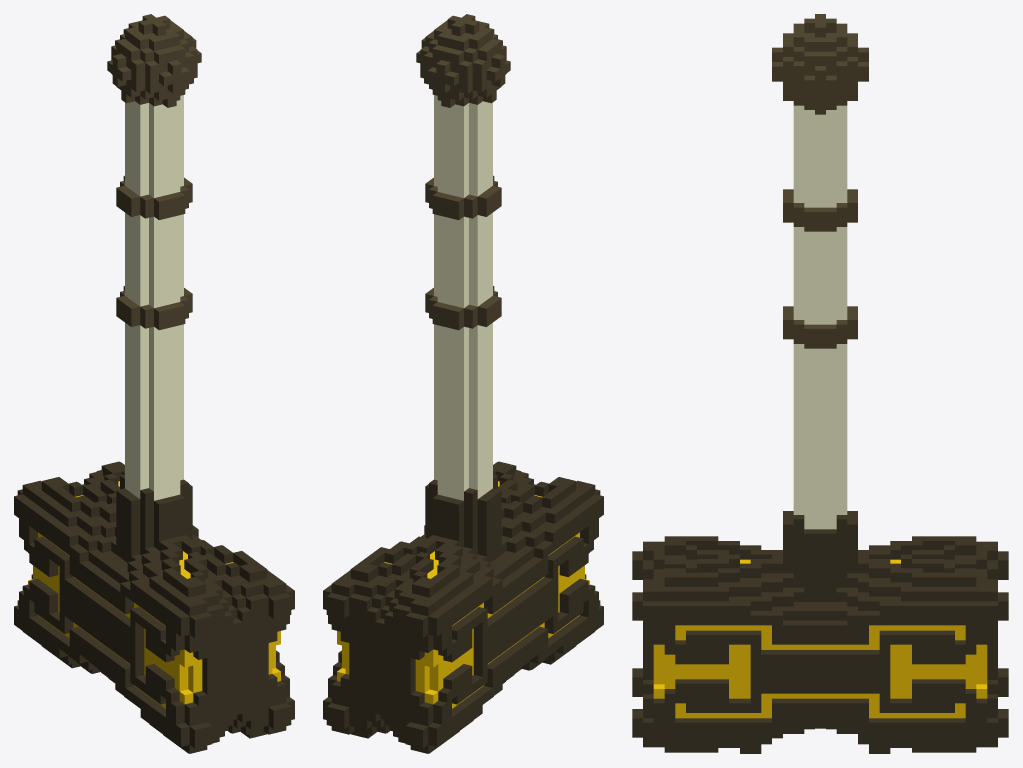
Rendered from marteau.obj.
3 renders of one model, left to right at view 1: azimuth 30°, elevation 25°; view 2: azimuth 150°, elevation 25°; view 3: azimuth 270°, elevation 25°, orthographic. The views are drawn at different scales.
Bounding box in the file's own units: 1.3 × 7.5 × 3.5.
Materials: 1 (1 with a texture image).
